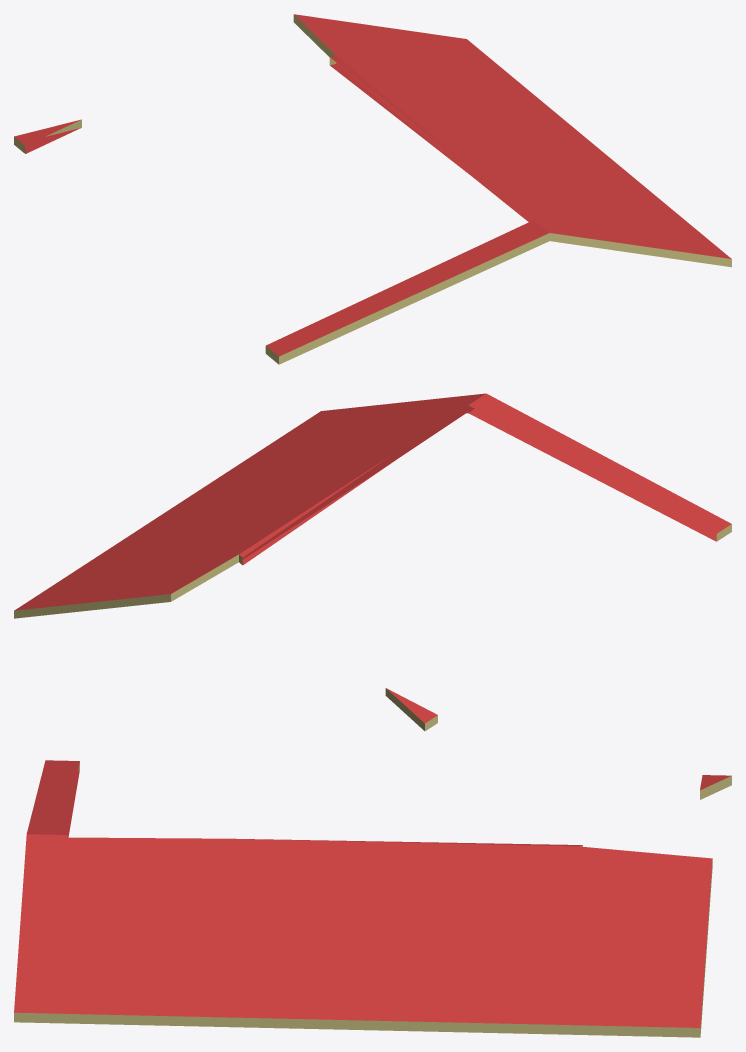
3 renders of one model, top to bottom at view 1: azimuth 30°, elevation 25°; view 2: azimuth 150°, elevation 25°; view 3: azimuth 270°, elevation 25°, orthographic. The views are drawn at different scales.
Bounding box in the file's own units: 5.94 × 6.74 × 0.897.
